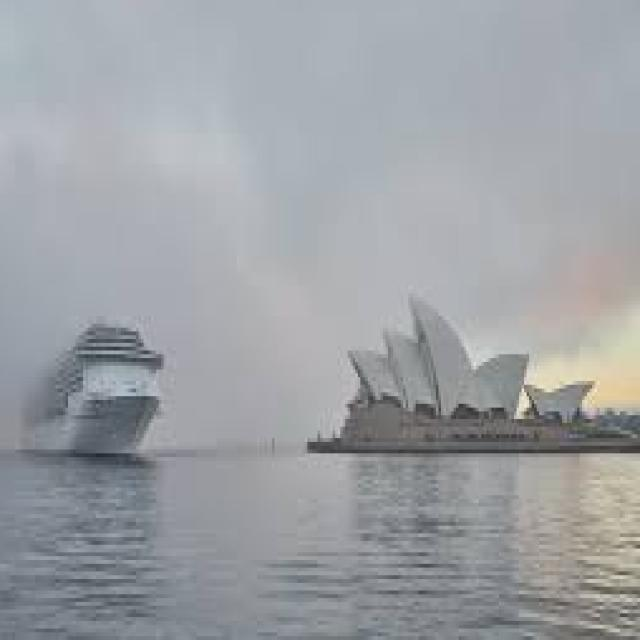passenger ship: (19, 310, 160, 454)
